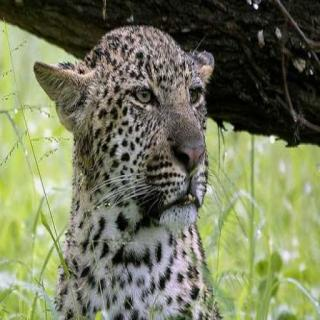Leopard: (48, 8, 216, 315)
